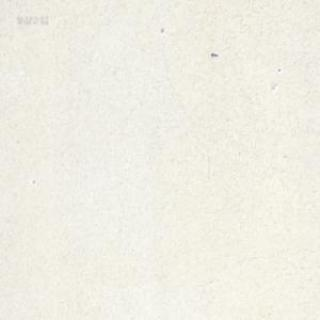Nailtrack_idkeyframe: (210, 51, 217, 57)
